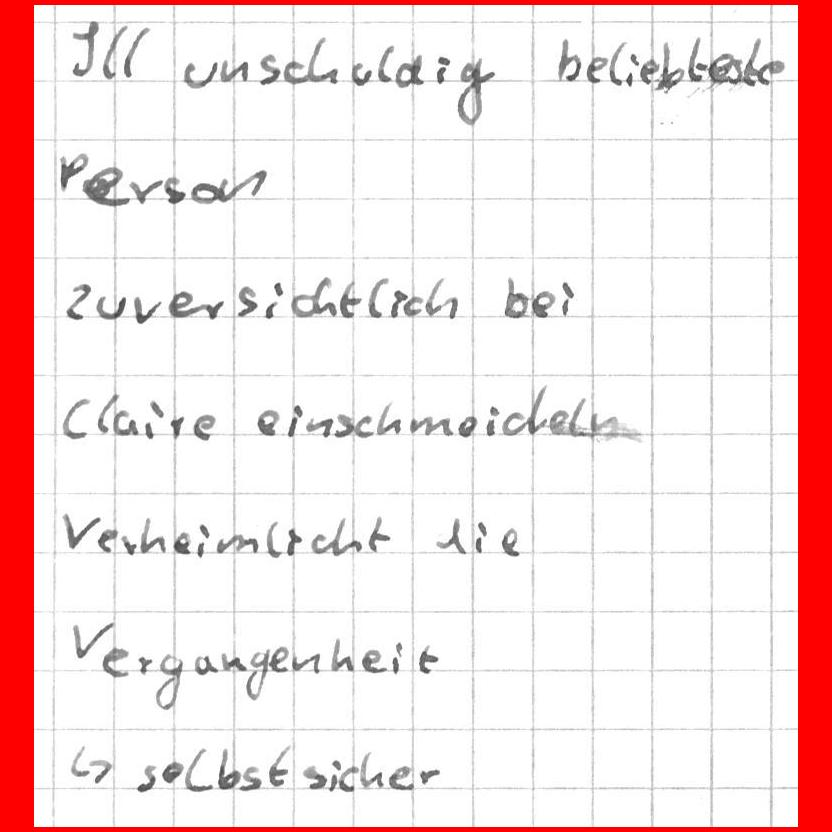Char: (454, 58, 493, 126), (66, 18, 97, 82), (69, 619, 114, 660), (152, 654, 184, 711), (120, 25, 153, 79), (511, 386, 547, 433), (307, 35, 340, 85), (84, 166, 125, 206), (220, 166, 265, 201), (63, 511, 99, 553), (100, 25, 127, 80), (425, 274, 457, 320), (244, 647, 270, 703), (57, 150, 89, 195), (555, 35, 583, 83), (591, 409, 636, 438), (62, 396, 90, 442), (658, 41, 684, 90), (502, 272, 529, 319), (436, 516, 468, 554), (185, 747, 211, 793), (266, 743, 292, 789), (331, 515, 360, 556), (407, 412, 453, 437), (741, 35, 763, 86), (137, 515, 164, 556), (215, 747, 240, 791), (64, 280, 89, 322), (393, 53, 422, 89), (182, 57, 214, 89), (314, 275, 337, 319), (126, 175, 158, 206), (262, 279, 286, 320), (360, 749, 384, 790), (215, 533, 256, 557), (366, 275, 388, 319), (95, 392, 118, 434), (99, 646, 130, 677), (132, 292, 161, 325), (687, 36, 707, 82), (712, 53, 739, 87), (330, 635, 354, 673), (366, 515, 389, 553), (95, 292, 124, 321), (377, 402, 401, 437), (569, 396, 589, 438), (168, 290, 196, 320), (339, 281, 361, 319), (757, 56, 785, 85), (67, 742, 88, 780), (235, 284, 258, 318), (218, 58, 248, 84), (609, 39, 626, 84), (111, 407, 137, 436), (190, 180, 220, 205), (257, 54, 281, 85), (192, 411, 216, 442), (134, 762, 158, 793), (533, 289, 557, 320), (143, 403, 163, 440), (161, 175, 186, 204), (256, 408, 280, 438), (264, 519, 282, 558), (559, 278, 577, 317), (498, 525, 519, 558), (284, 524, 304, 558), (388, 763, 413, 790), (350, 60, 374, 88), (305, 414, 333, 438), (193, 651, 219, 676), (283, 57, 307, 84), (303, 763, 327, 790), (472, 519, 490, 555), (293, 650, 321, 673), (240, 764, 263, 792), (417, 645, 439, 674), (587, 55, 609, 84), (361, 648, 385, 674), (95, 526, 118, 553), (220, 650, 247, 673), (376, 46, 393, 82), (89, 760, 112, 786), (286, 404, 304, 437), (161, 761, 184, 786), (353, 413, 375, 439), (172, 530, 194, 556), (199, 299, 225, 321), (639, 56, 658, 86), (434, 54, 452, 85), (291, 292, 312, 318), (195, 522, 210, 558), (387, 289, 406, 317), (727, 57, 746, 85), (308, 533, 331, 556), (485, 404, 501, 437), (270, 646, 290, 672), (334, 410, 353, 437), (456, 414, 478, 437), (418, 766, 442, 787), (547, 409, 568, 433), (167, 414, 187, 439), (390, 639, 404, 674), (341, 765, 359, 792), (627, 49, 639, 87), (134, 652, 152, 676), (328, 759, 341, 791), (403, 295, 422, 316), (121, 536, 137, 556)
